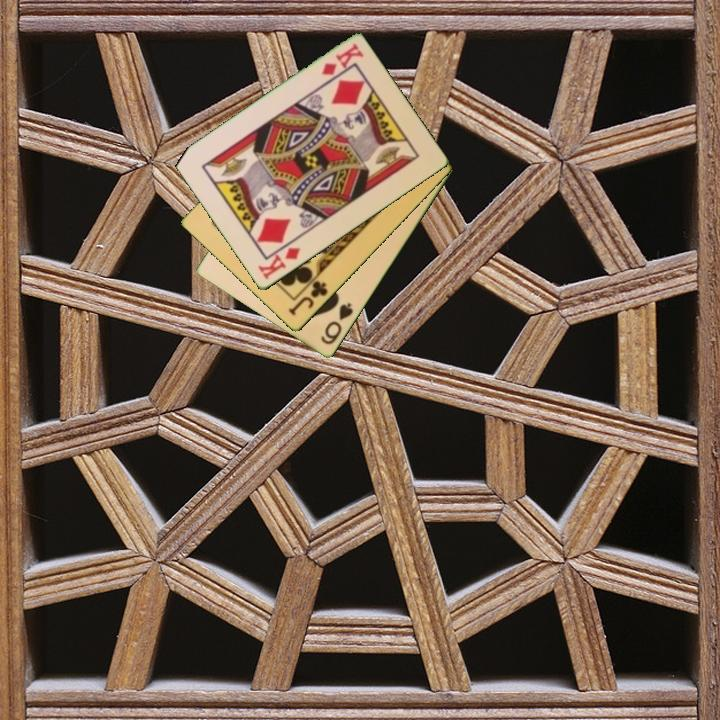6s: (317, 299, 356, 348)
Jc: (285, 277, 331, 319)
Kd: (254, 244, 303, 283), (318, 40, 366, 79)
